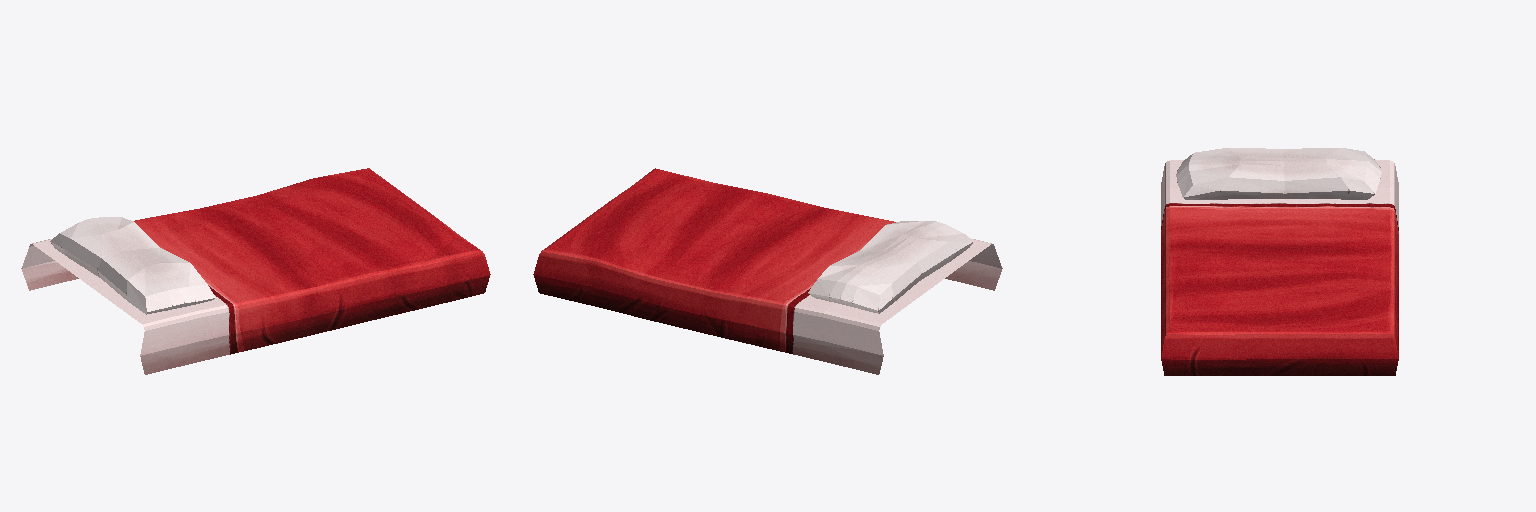
3 renders of one model, left to right at view 1: azimuth 30°, elevation 25°; view 2: azimuth 150°, elevation 25°; view 3: azimuth 270°, elevation 25°, orthographic.
Visible parts, largest first — view 1: Bed; view 2: Bed; view 3: Bed.
Part boxes in pixels (left/top/right/bottom): Bed: left=21, top=168, right=490, bottom=374; Bed: left=533, top=168, right=1002, bottom=374; Bed: left=1161, top=148, right=1398, bottom=375.
Size of the model in its own units: 6.18 by 1.25 by 3.63.
Materials: 1 (1 with a texture image).